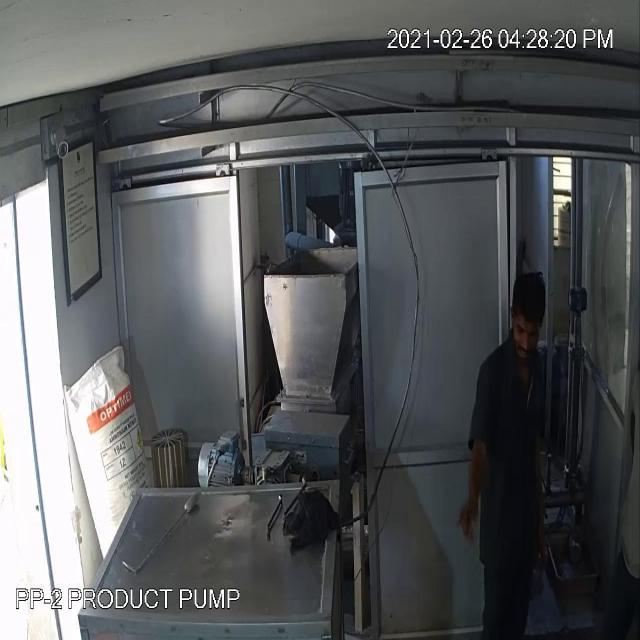no-helmet: (502, 274, 548, 341)
